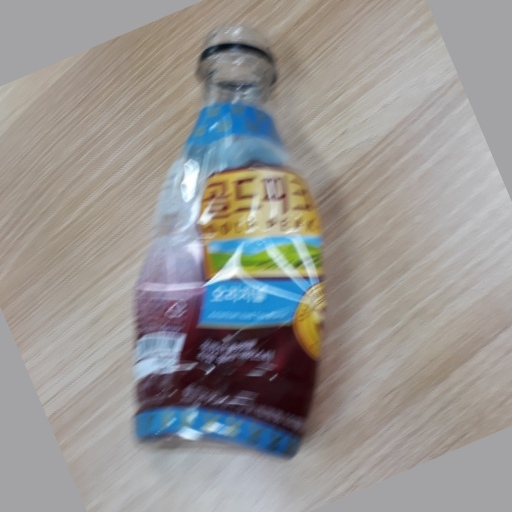Plastic_0: (127, 23, 328, 463)
